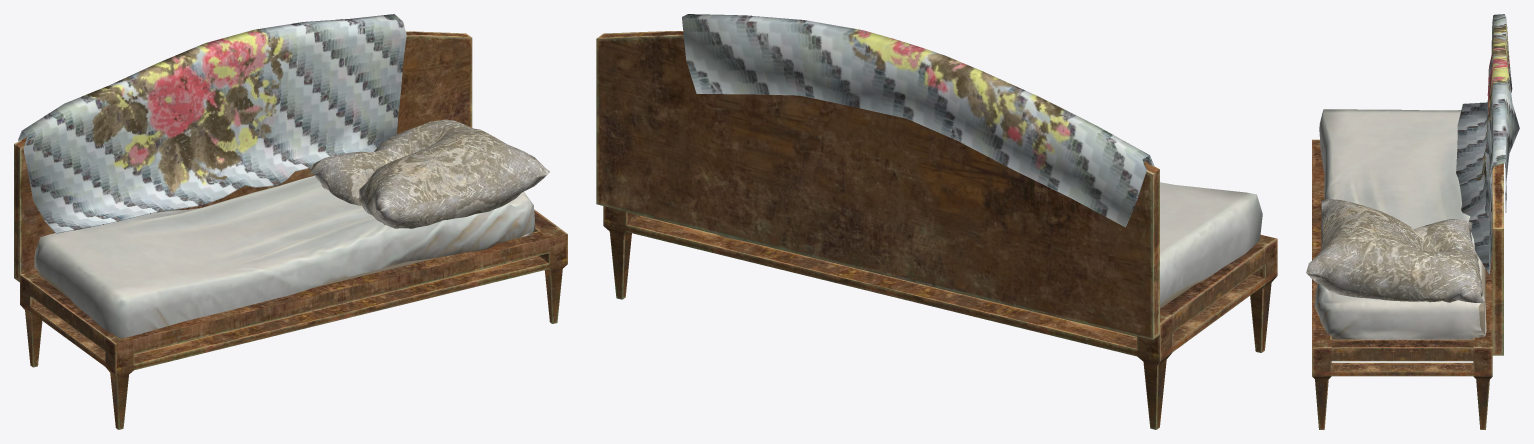
3 views of the same model, side by side, from view 1: azimuth 30°, elevation 25°; view 2: azimuth 150°, elevation 25°; view 3: azimuth 270°, elevation 25° (orthographic). The views are drawn at different scales.
Visible parts, largest first — view 1: vintage_day_bed; view 2: vintage_day_bed; view 3: vintage_day_bed.
Boxes of the visible parts, x1,y1,x2,y2 form: vintage_day_bed: (14,14,567,429); vintage_day_bed: (596,14,1277,429); vintage_day_bed: (1306,14,1519,429).
Size of the model in its own units: 1.97 by 1.13 by 0.8547.
Materials: 1 (1 with a texture image).
